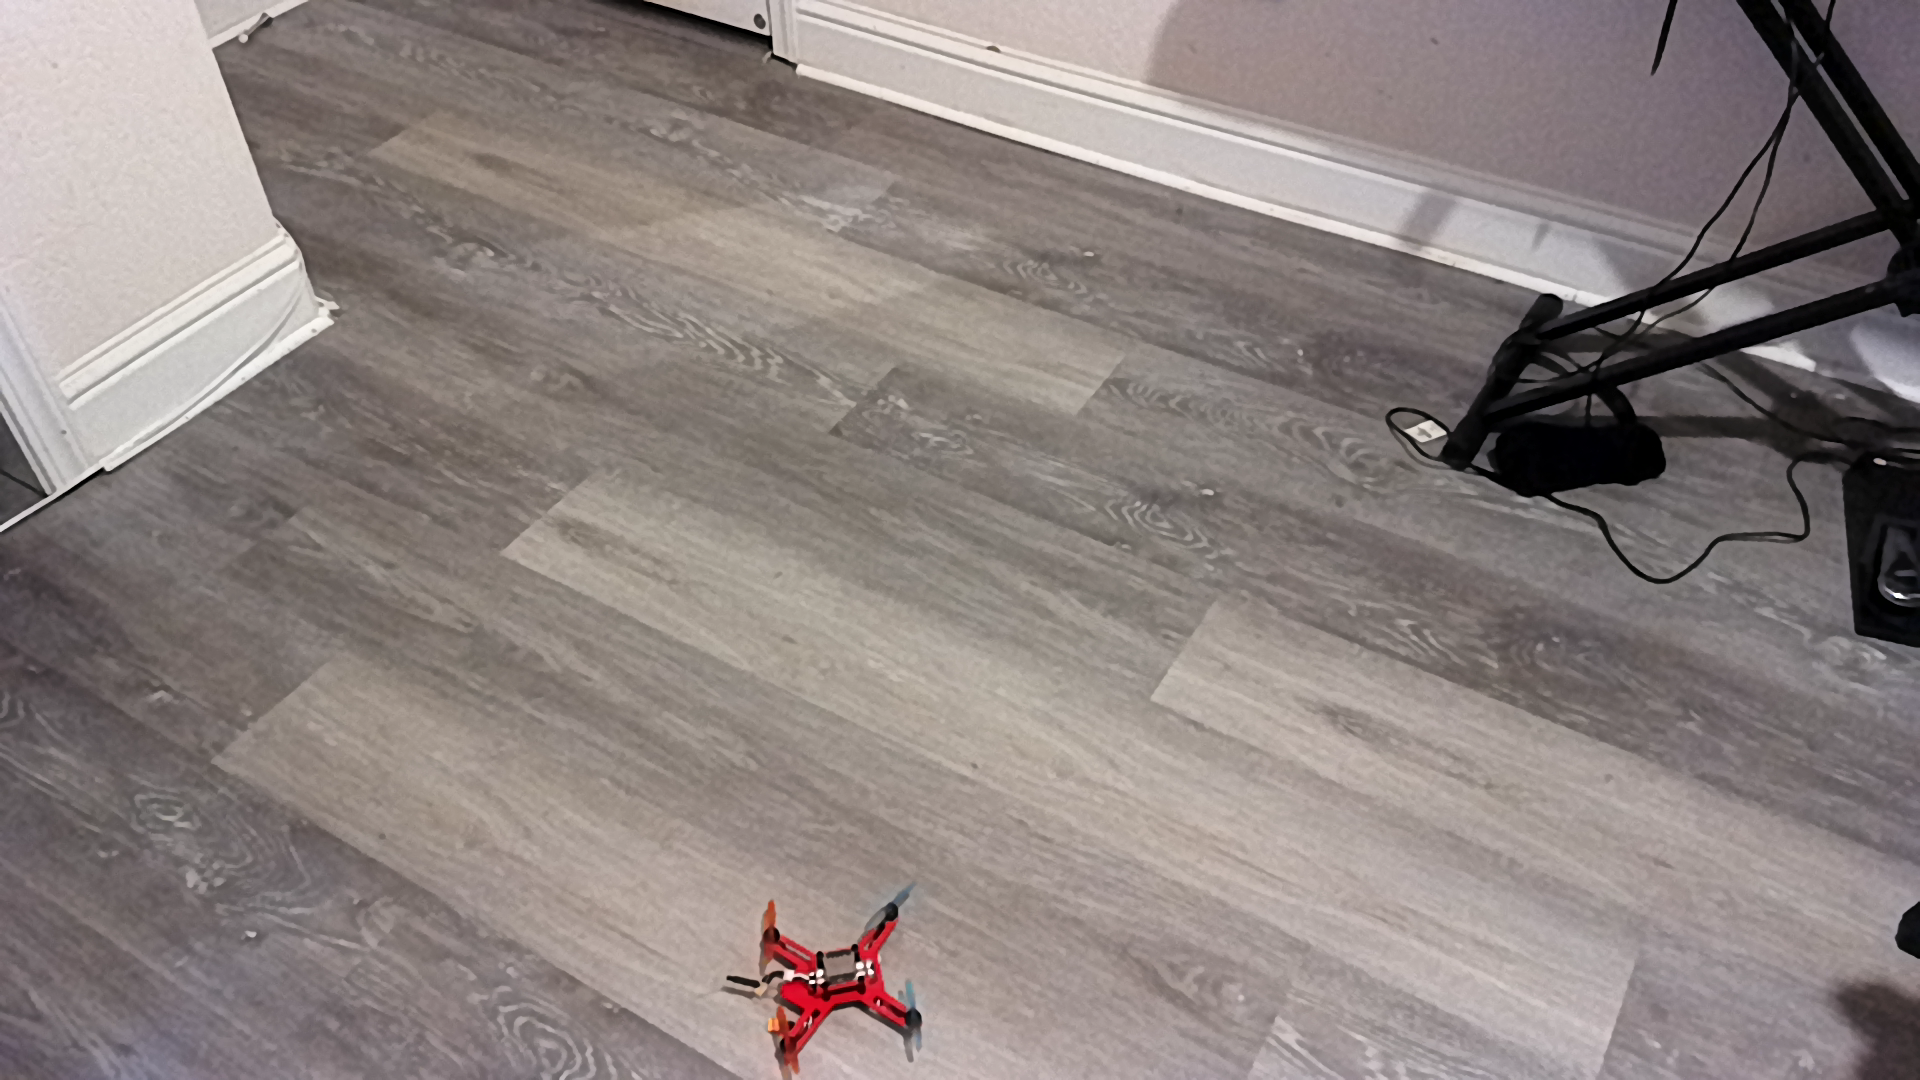drone: (723, 881, 948, 1077)
